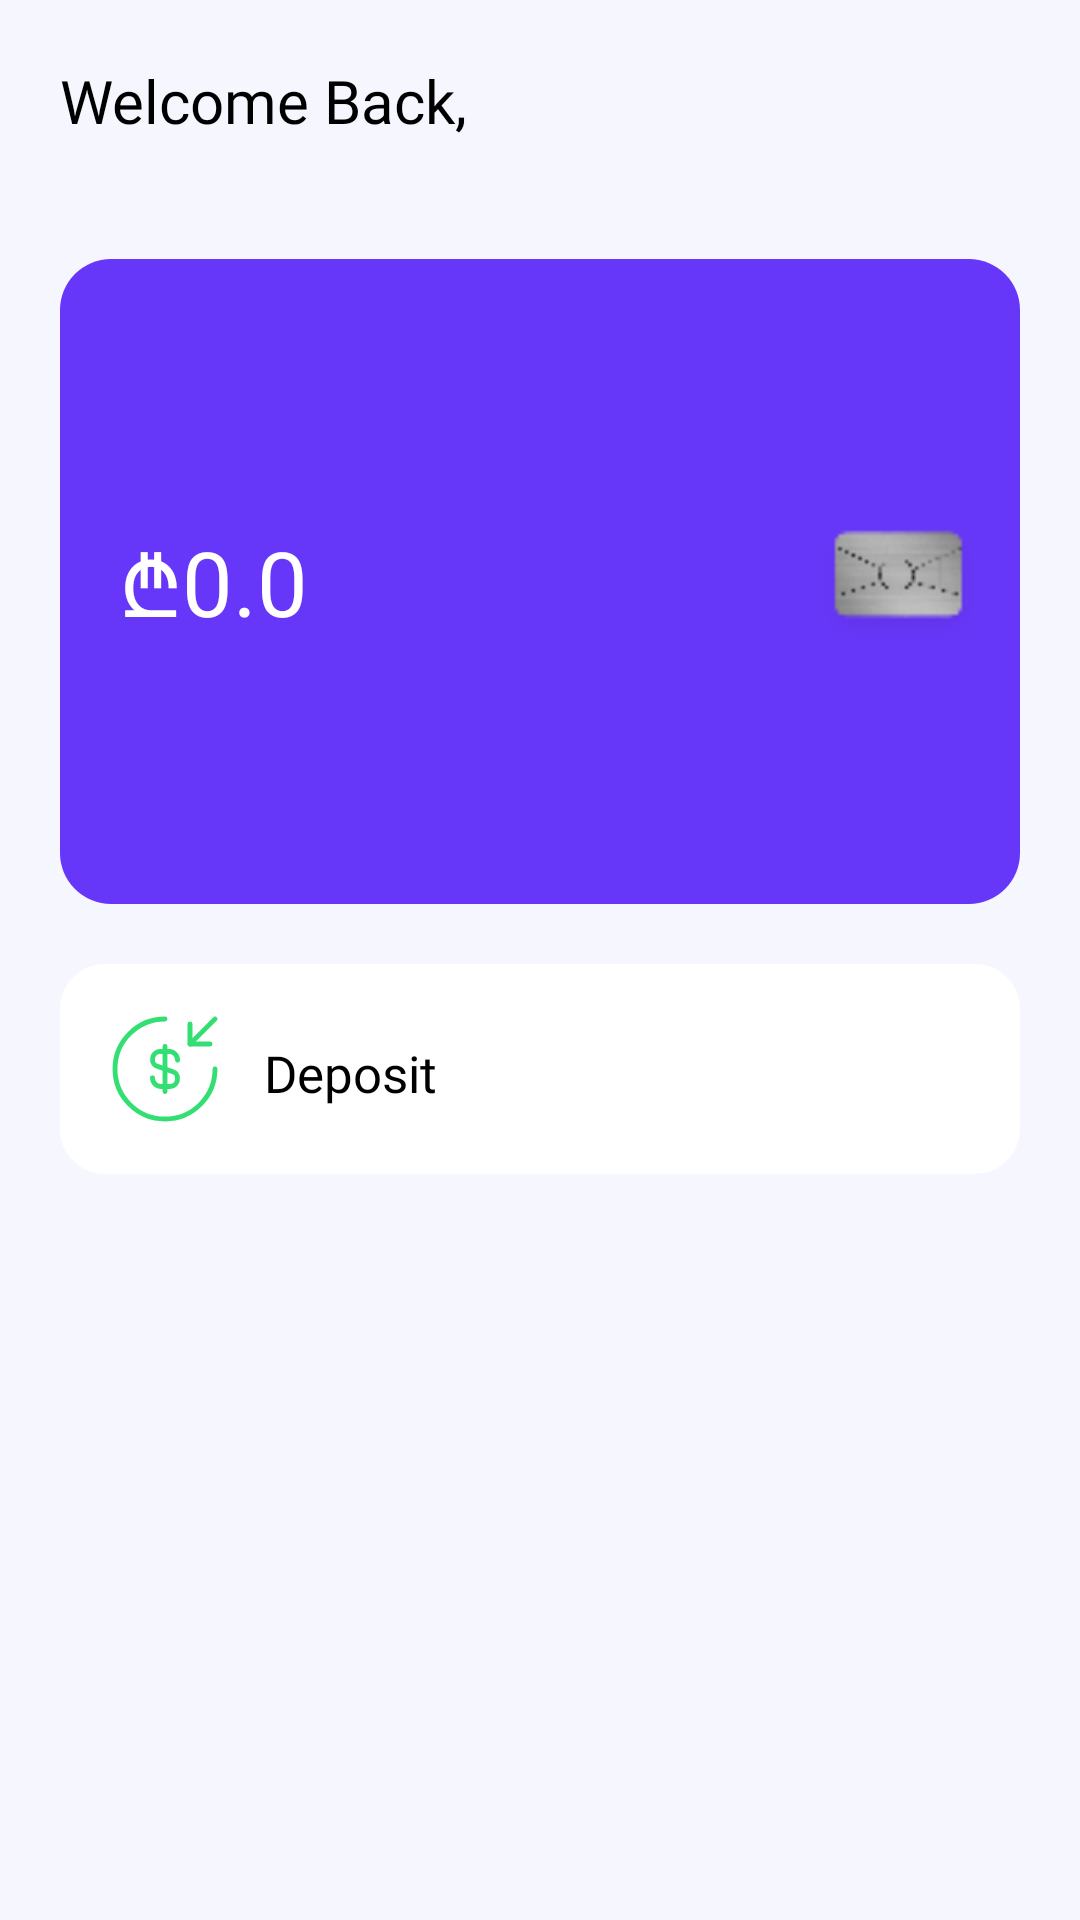

Point at icon controls on the screen. Image size 1080px x 1920px, points as (x,y).
cardchip: (898,574)
